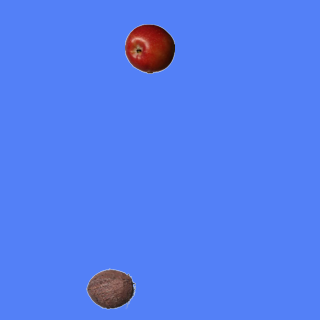Apple Braeburn: (124, 23, 174, 73)
Cocos: (85, 263, 135, 313)
